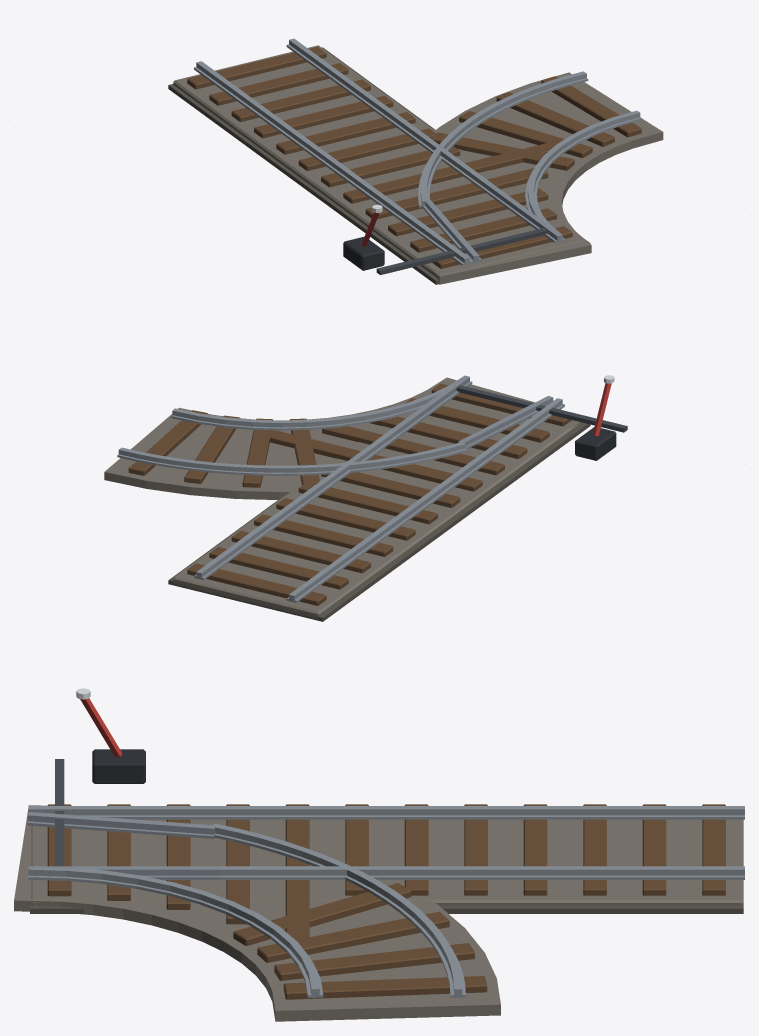
Rendered from rail_aiguillage_d_droit.glb.
3 views of the same model, one above another, from view 1: azimuth 30°, elevation 25°; view 2: azimuth 150°, elevation 25°; view 3: azimuth 270°, elevation 25° (orthographic). The views are drawn at different scales.
Parts seen in each view (by area): view 1: rail_ballast.016, rail_traverse.018, rail_rail.018, rail_ballast_sombre.010, rail_acier.008, rail_acier_sombre.008, rail_fonte.008; view 2: rail_ballast.016, rail_traverse.018, rail_rail.018, rail_ballast_sombre.010, rail_acier.008, rail_acier_sombre.008, rail_fonte.008; view 3: rail_ballast.016, rail_traverse.018, rail_rail.018, rail_acier.008, rail_ballast_sombre.010, rail_fonte.008, rail_acier_sombre.008, rail_rouge.008.
Boxes of the visible parts, <box> form: rail_ballast.016: <box>173,45,663,284</box>; rail_traverse.018: <box>187,46,641,268</box>; rail_rail.018: <box>194,38,641,265</box>; rail_ballast_sombre.010: <box>168,47,590,284</box>; rail_acier.008: <box>422,182,561,262</box>; rail_acier_sombre.008: <box>376,228,547,274</box>; rail_fonte.008: <box>343,237,384,270</box>; rail_ballast.016: <box>104,377,583,618</box>; rail_traverse.018: <box>128,383,571,605</box>; rail_rail.018: <box>117,375,564,602</box>; rail_ballast_sombre.010: <box>168,423,590,621</box>; rail_acier.008: <box>393,375,553,449</box>; rail_acier_sombre.008: <box>456,385,627,432</box>; rail_fonte.008: <box>575,427,616,460</box>; rail_ballast.016: <box>14,805,743,1021</box>; rail_traverse.018: <box>47,804,725,999</box>; rail_rail.018: <box>28,806,744,997</box>; rail_acier.008: <box>27,812,221,879</box>; rail_ballast_sombre.010: <box>30,905,743,913</box>; rail_fonte.008: <box>92,749,145,783</box>; rail_acier_sombre.008: <box>55,759,64,866</box>; rail_rouge.008: <box>80,698,122,757</box>.
Bounding box in the file's own units: 3.07 × 0.452 × 3.07.
